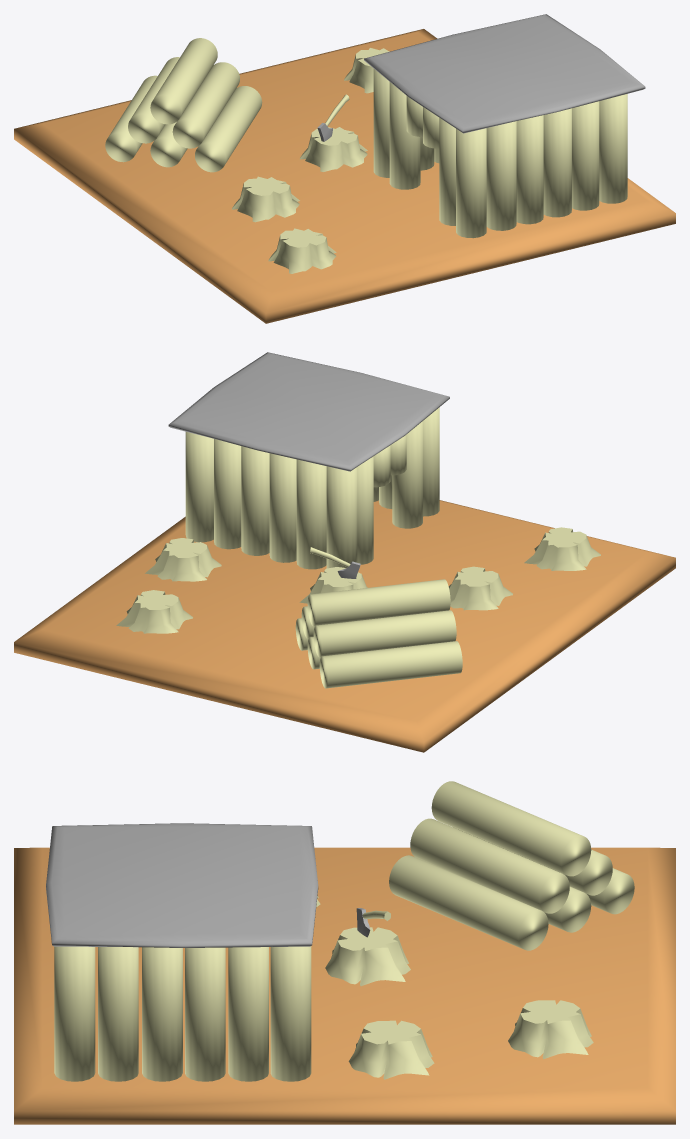
The model's file is forestGatherers.glb.
3 views of the same model, one above another, from view 1: azimuth 30°, elevation 25°; view 2: azimuth 150°, elevation 25°; view 3: azimuth 270°, elevation 25° (orthographic). The views are drawn at different scales.
Parts seen in each view (by area): view 1: Cube, Cylinder.014, Cube.001, Cylinder.006, Cylinder.004, Cylinder.001, Plane.001, Plane.004, Plane, Cylinder.003, Cylinder.005, Cylinder.002 (+1 smaller); view 2: Cube, Cylinder.014, Cube.001, Cylinder.003, Cylinder.006, Cylinder.005, Plane.003, Plane.002, Plane.001, Plane.004, Plane; view 3: Cube, Cylinder.014, Cube.001, Cylinder.001, Cylinder.006, Cylinder.004, Plane.002, Plane.003, Plane, Cylinder.005, Cylinder.003, Cylinder.002.
Part boxes in pixels (x1,y1,x2,y2): Cube: (14,29,675,323); Cylinder.014: (373,69,627,238); Cube.001: (364,14,645,133); Cylinder.006: (150,38,217,124); Cylinder.004: (172,62,239,148); Cylinder.001: (195,86,262,172); Plane.001: (268,228,336,273); Plane.004: (232,176,299,222); Plane: (300,127,367,171); Cylinder.003: (105,75,157,162); Cylinder.005: (128,57,179,143); Cylinder.002: (150,122,187,167); Cube: (14,500,675,752); Cylinder.014: (185,407,439,569); Cube.001: (168,352,449,471); Cylinder.003: (319,641,462,688); Cylinder.006: (307,579,450,626); Cylinder.005: (313,610,456,657); Plane.003: (116,590,192,633); Plane.002: (145,538,221,581); Plane.001: (524,527,600,570); Plane.004: (448,566,512,610); Plane: (299,567,367,603); Cube: (14,847,675,1124); Cylinder.014: (54,946,311,1081); Cube.001: (46,823,318,947); Cylinder.001: (389,855,548,950); Cylinder.006: (431,781,591,876); Cylinder.004: (410,818,569,913); Plane.002: (348,1020,434,1079); Plane.003: (508,1000,593,1059); Plane: (325,927,410,986); Cylinder.005: (458,829,612,895); Cylinder.003: (587,868,634,914); Cylinder.002: (544,886,591,932).
Size of the model in its own units: 2.91 by 0.9063 by 3.1.
